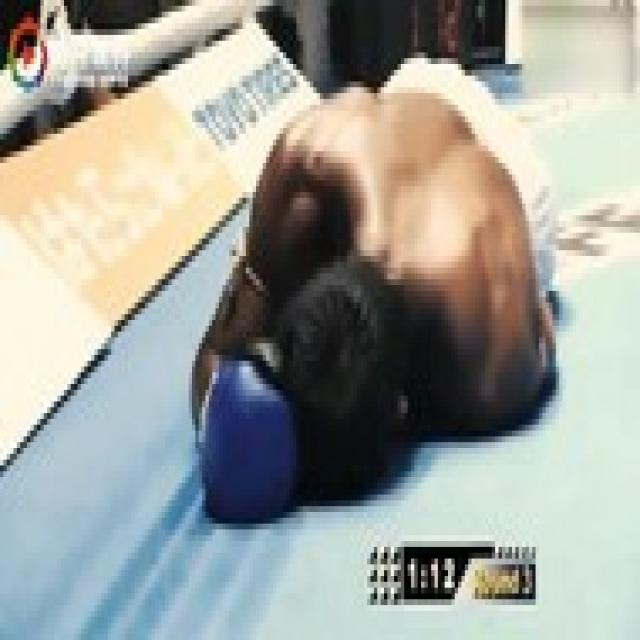down: (172, 29, 569, 518)
